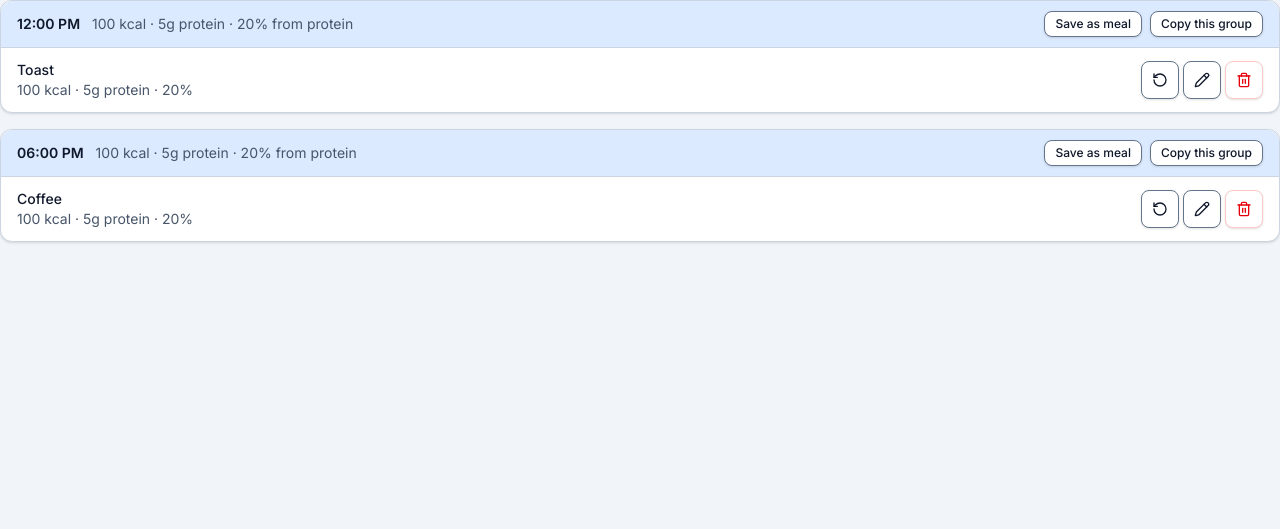
Test case: FoodEntryList -- active-group suppression (Phase 8d) › closing the active panel (via 'Close') restores both header actions and the row actions
Step 1. Click the button "Save as meal" in the row of "12:00 PM" → (1093, 24), box [1044,11,1142,37]
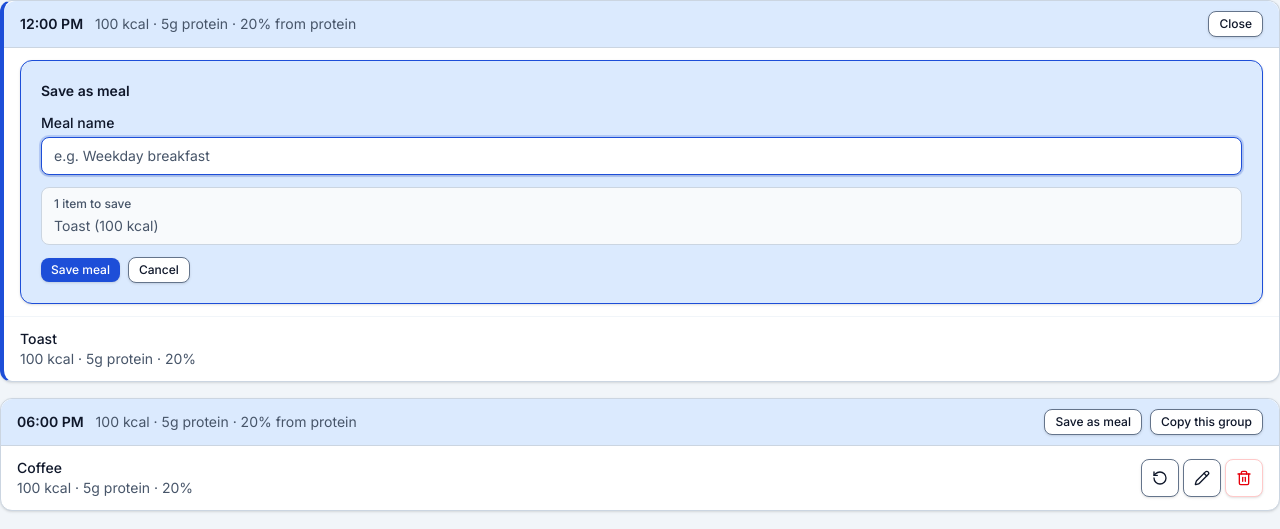
Step 2. Click the button "Close" → (1236, 24), box [1208,11,1263,37]
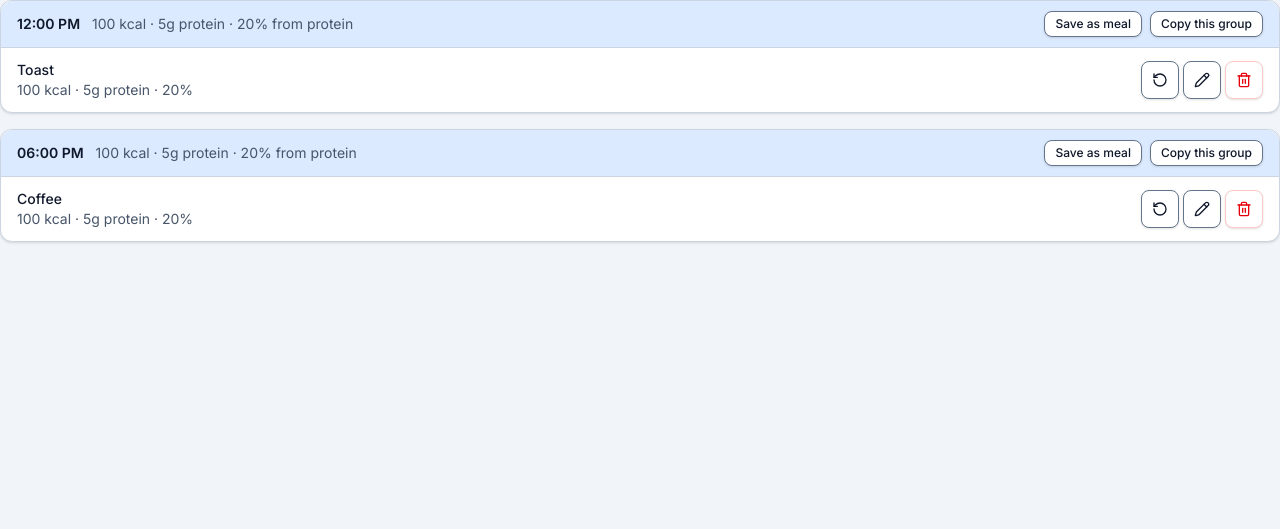
Expected: the button "Save as meal" in the row of "12:00 PM" is shown, [1044,11,1142,37]
Expected: the button "Copy this group" in the row of "12:00 PM" is shown, [1150,11,1263,37]
Expected: the button named "Log again" is shown, [1141,61,1179,99]
